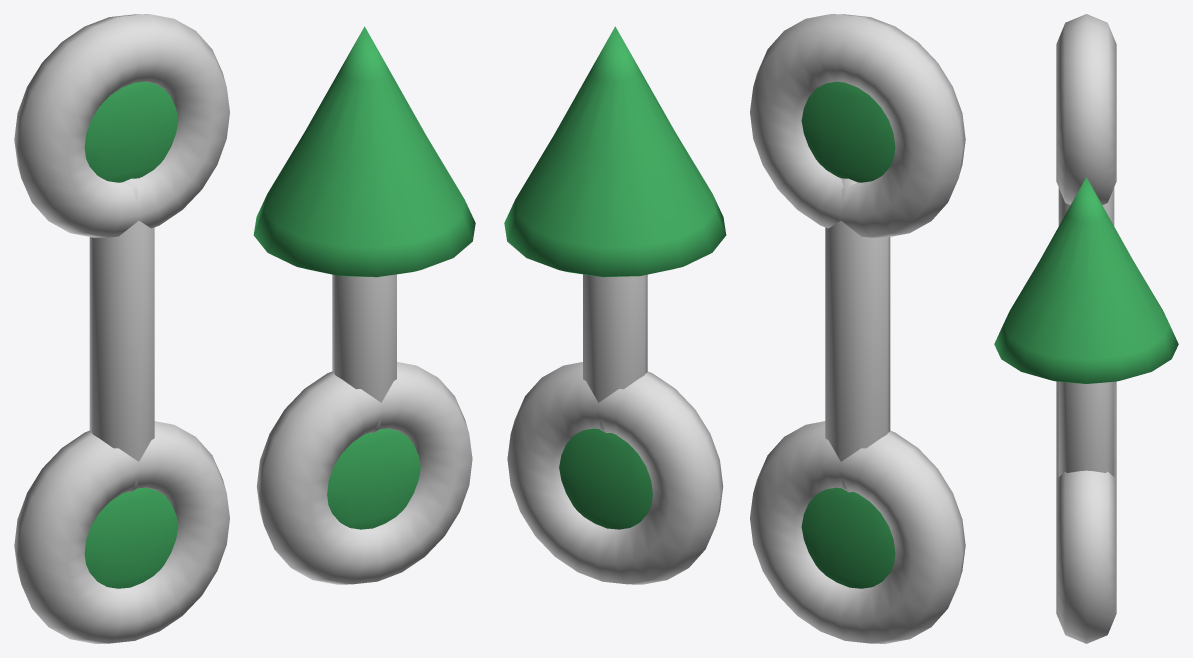
The model's file is git_pull_request.glb.
The picture shows the model from 3 angles, left to right: view 1: azimuth 30°, elevation 25°; view 2: azimuth 150°, elevation 25°; view 3: azimuth 270°, elevation 25°; orthographic projection. The views are drawn at different scales.
Parts seen in each view (by area): view 1: git_pull_request; view 2: git_pull_request; view 3: git_pull_request.
Boxes of the visible parts, x1,y1,x2,y2 form: git_pull_request: [14, 14, 475, 643]; git_pull_request: [504, 14, 965, 643]; git_pull_request: [994, 14, 1178, 643].
Bounding box in the file's own units: 0.7561 × 1 × 0.3252.
